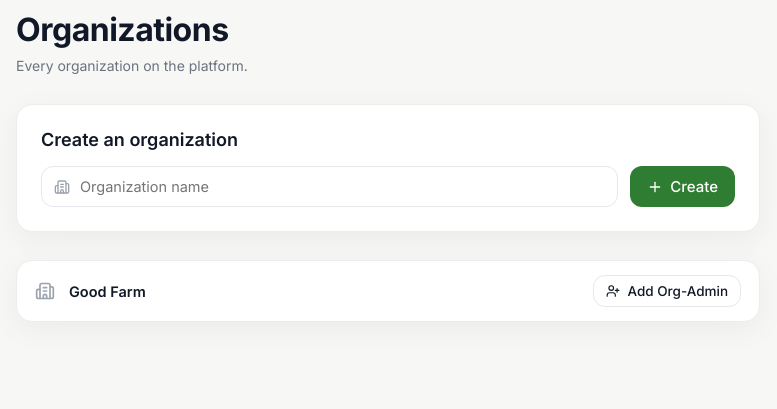
Test case: OrganizationsPage › invites an Org-Admin into a specific organization
Expected: the text "Good Farm" is shown, 69,282 -> 146,300
Click the button "Add Org-Admin": [667, 291] box 594,275 -> 741,307
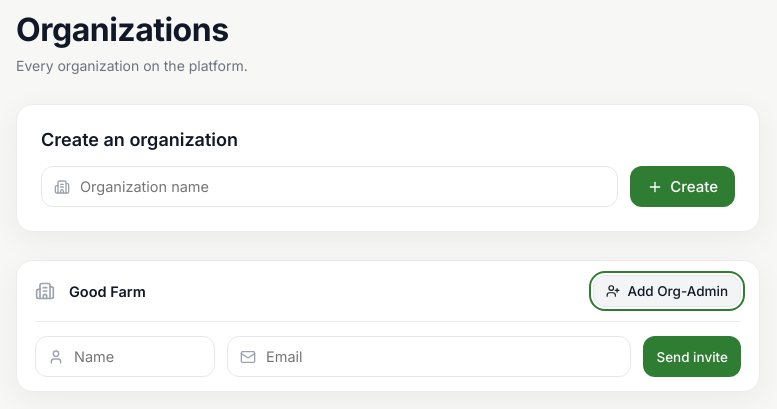
In the field with placeholder "Name": [125, 356] box 35,336 -> 215,377, type "New Owner"
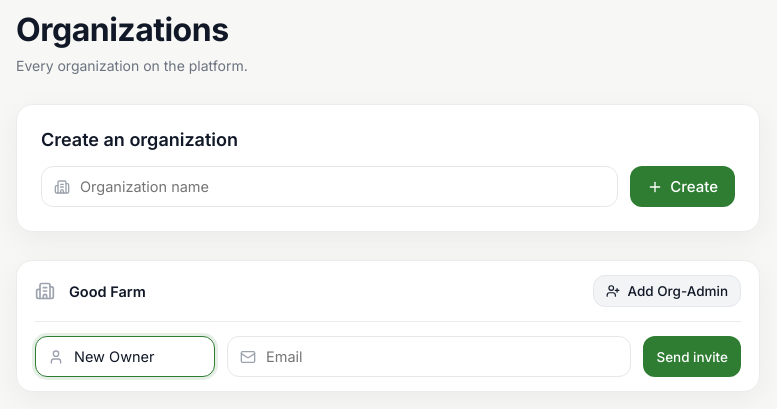
In the field with placeholder "Email": [429, 356] box 227,336 -> 631,377, type "newowner@example.com"
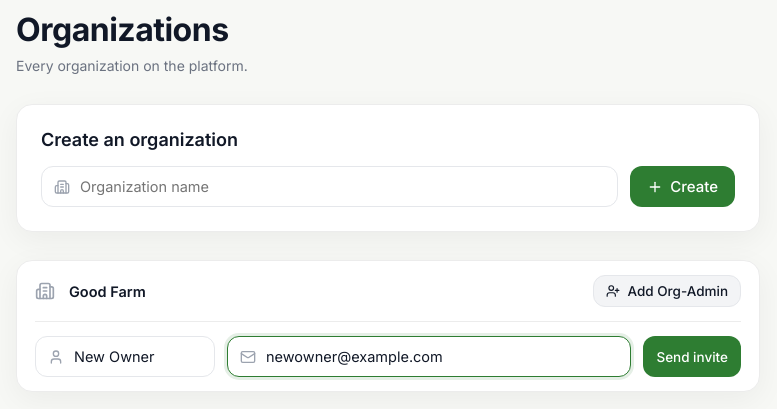
Click the button "Send invite": [692, 356] box 643,336 -> 741,377
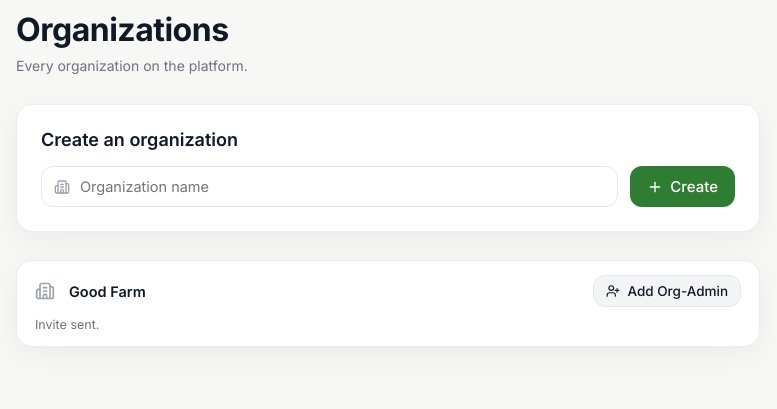
Expected: the text "Invite sent." is shown, 35,317 -> 99,332
